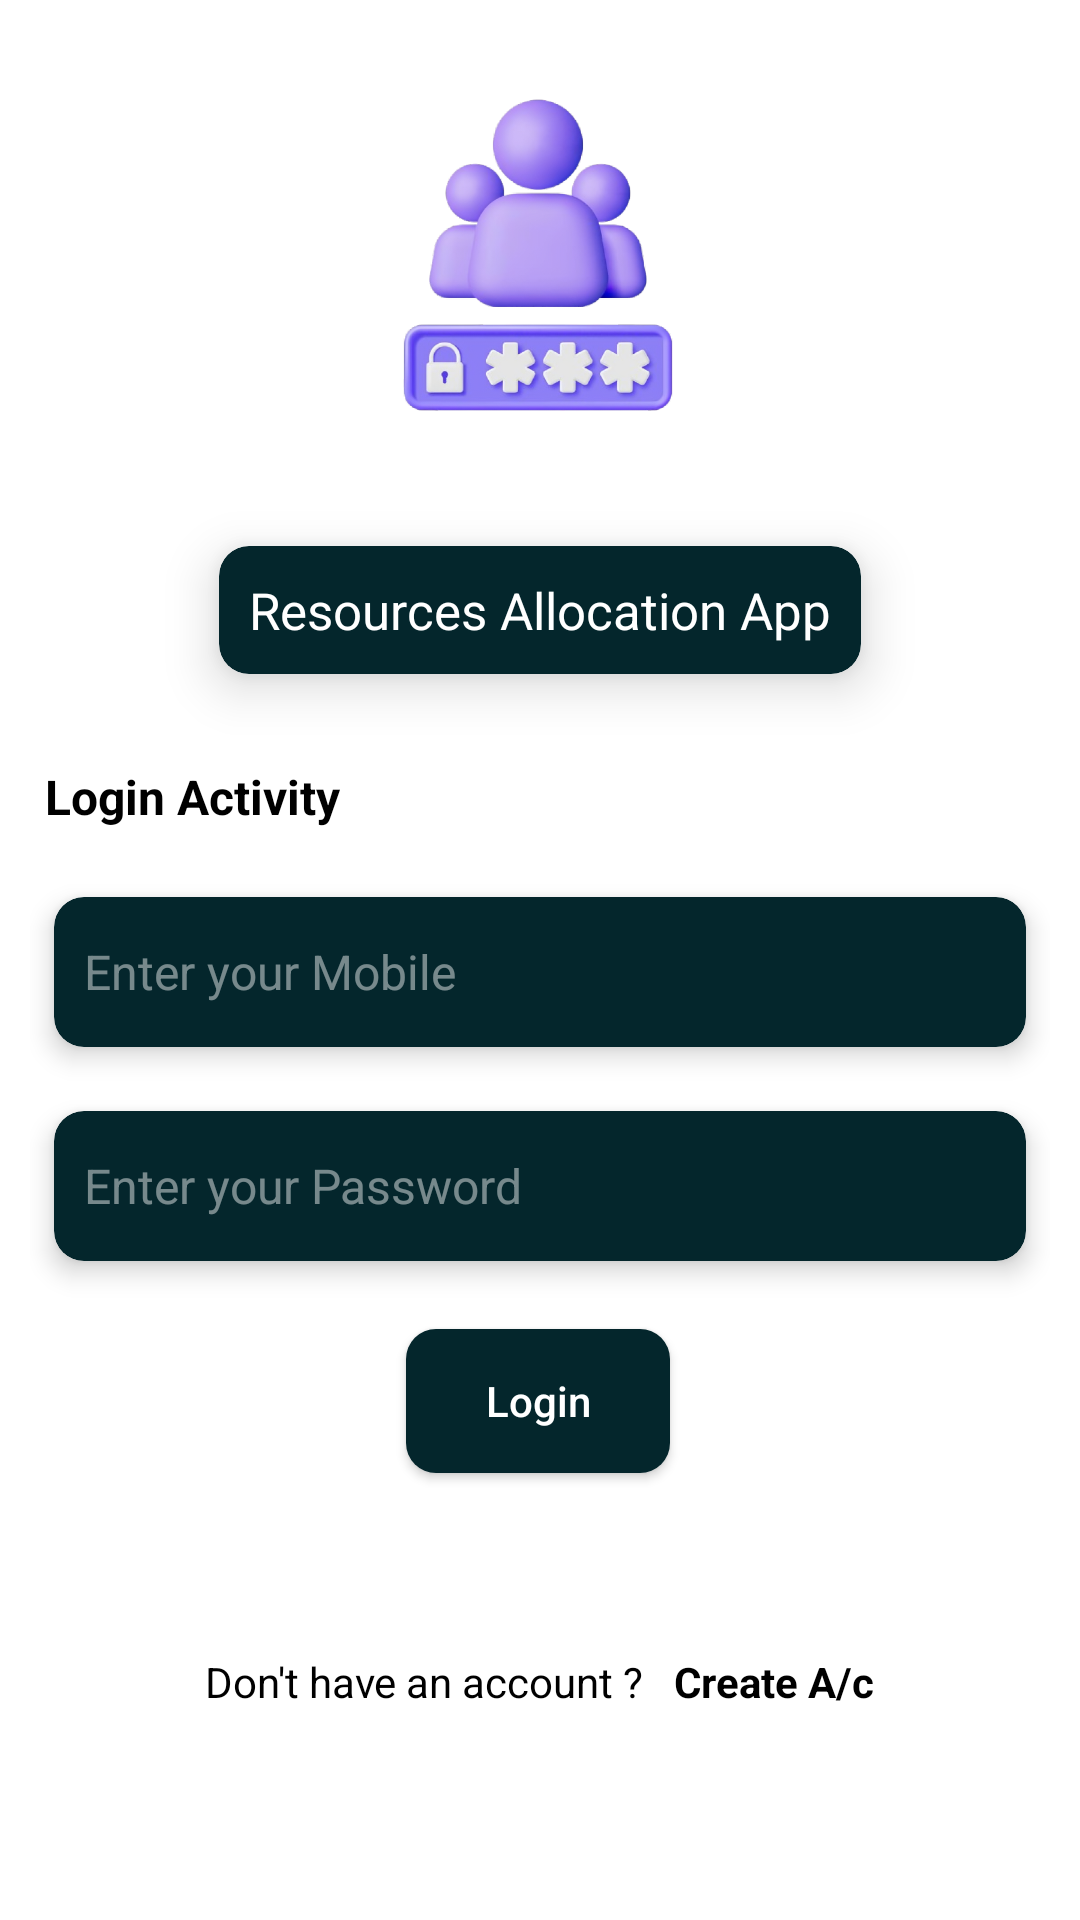

Named icons in this screenshot (1080w x 1920h) and their bounding boxes, (x1, y1, x2, y2):
login: (404, 99, 672, 411)
